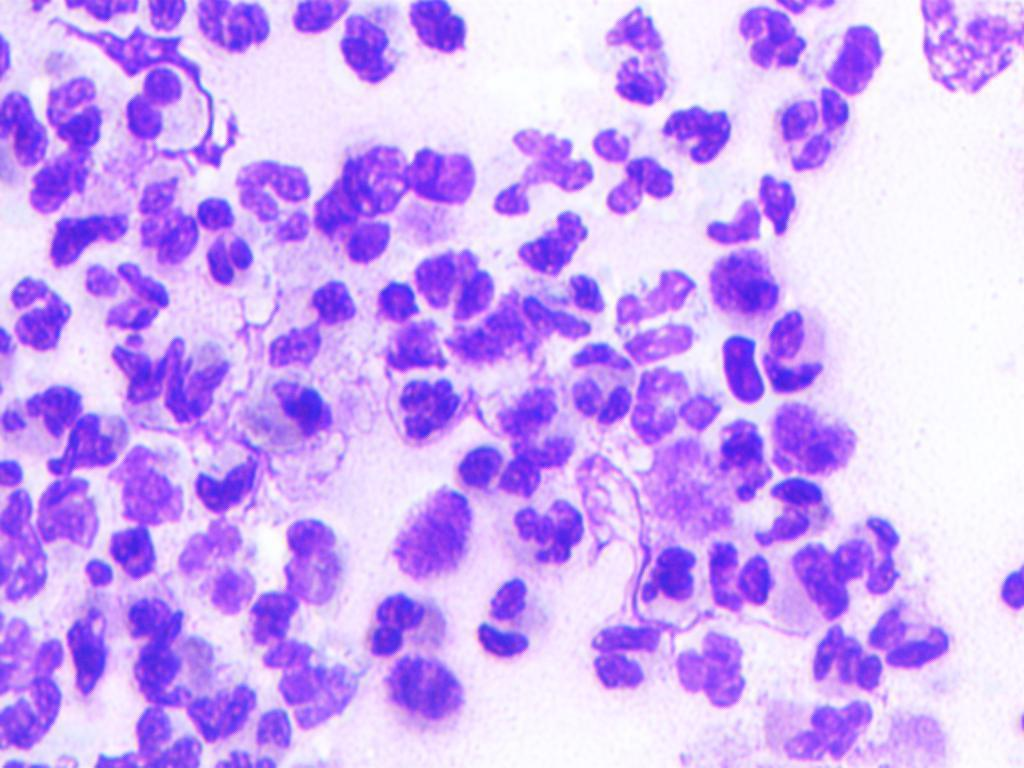neutrophil: (714, 304, 850, 406), (478, 113, 599, 221), (609, 274, 708, 376), (705, 163, 812, 256), (825, 505, 919, 604), (262, 641, 363, 733), (475, 570, 554, 685), (586, 124, 684, 215), (385, 366, 482, 452), (412, 236, 510, 320), (761, 694, 880, 762), (765, 82, 856, 170), (112, 69, 211, 149), (699, 533, 780, 630), (273, 511, 348, 613), (358, 589, 460, 663), (502, 497, 596, 576), (453, 434, 551, 509), (6, 267, 75, 373), (805, 616, 890, 702), (236, 156, 318, 244), (406, 134, 485, 221), (198, 197, 266, 297), (870, 593, 951, 676), (658, 99, 741, 176), (731, 3, 812, 81), (88, 264, 176, 334), (563, 354, 644, 430), (38, 474, 110, 555), (1, 384, 82, 455), (105, 516, 161, 584)
